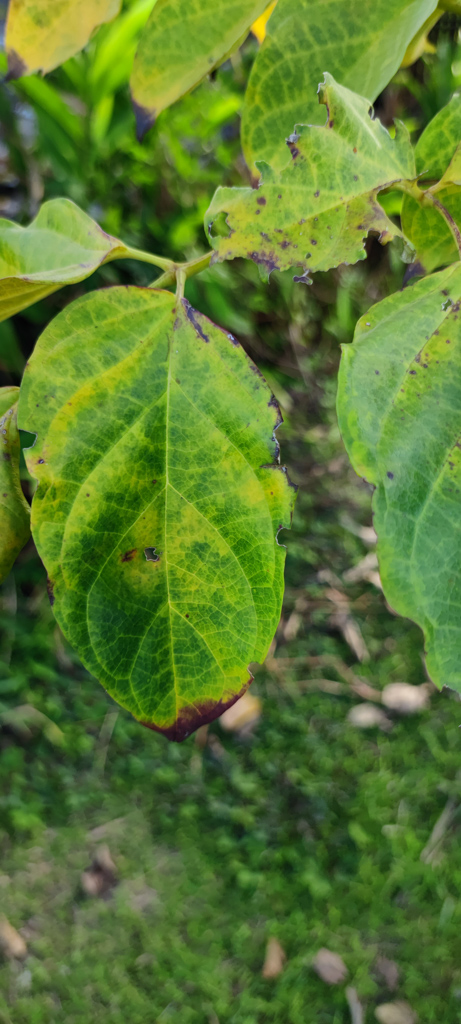Canker: (202, 122, 351, 278), (122, 678, 282, 760), (93, 523, 182, 573), (30, 425, 68, 492)
